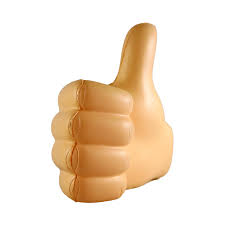thumbs_up: (40, 10, 197, 204)
